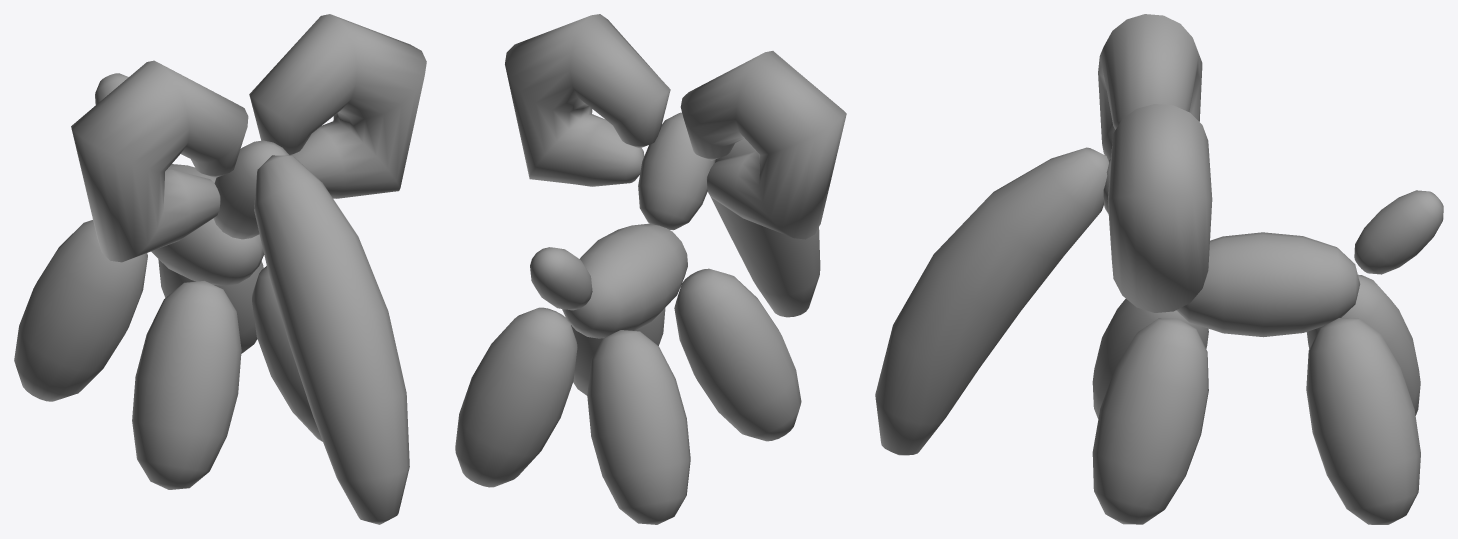
Rendered from balloonElephant.fbx.
The picture shows the model from 3 angles, left to right: view 1: azimuth 30°, elevation 25°; view 2: azimuth 150°, elevation 25°; view 3: azimuth 270°, elevation 25°; orthographic projection. The views are drawn at different scales.
Parts seen in each view (by area): view 1: Sphere.015; view 2: Sphere.015; view 3: Sphere.015.
Boxes of the visible parts, x1,y1,x2,y2 form: Sphere.015: (14, 14, 426, 524); Sphere.015: (455, 14, 846, 524); Sphere.015: (875, 14, 1443, 524).
Size of the model in its own units: 106 by 123 by 150.
